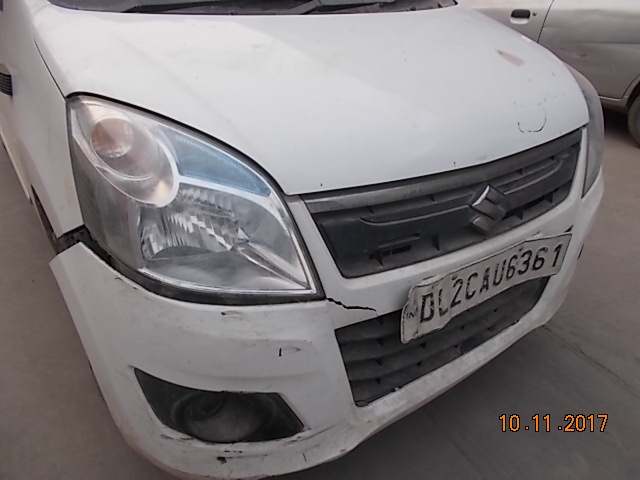Dislocation: (50, 216, 91, 270)
Tear: (313, 279, 377, 326)
